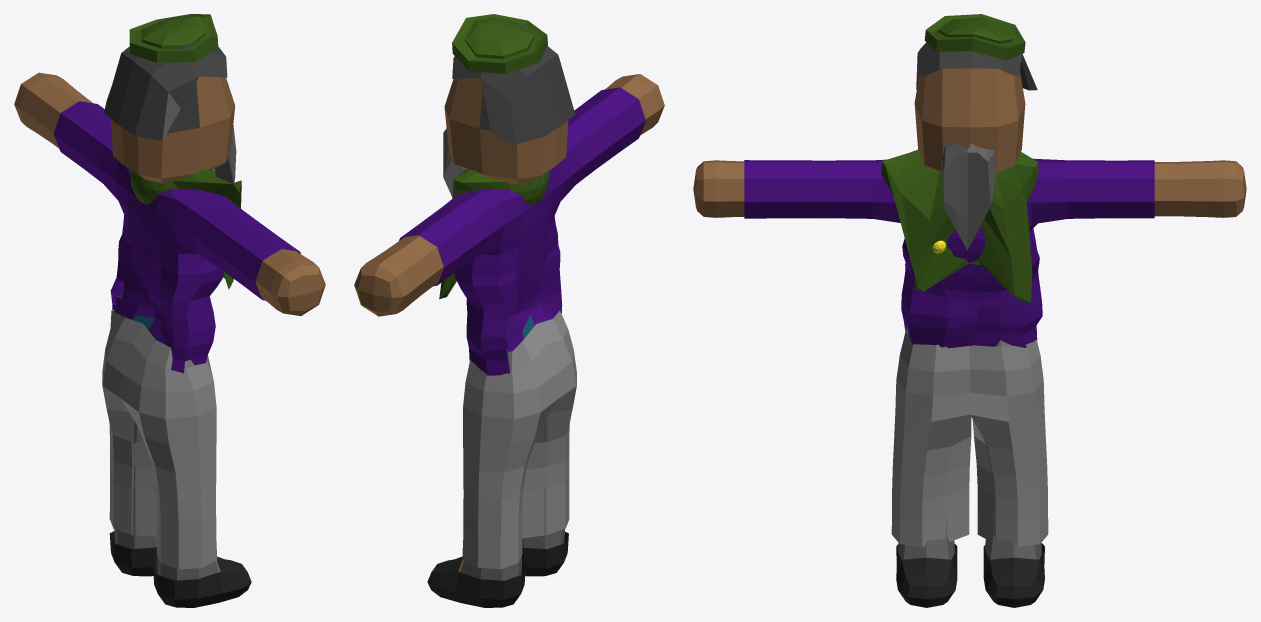
Rendered from unriggedCount.fbx.
3 renders of one model, left to right at view 1: azimuth 30°, elevation 25°; view 2: azimuth 150°, elevation 25°; view 3: azimuth 270°, elevation 25°, orthographic.
Visible parts, largest first — view 1: Count; view 2: Count; view 3: Count.
Part boxes in pixels (x1=…): Count: x1=14, y1=14, x2=325, y2=607; Count: x1=354, y1=14, x2=664, y2=607; Count: x1=693, y1=14, x2=1246, y2=607.
Bounding box in the file's own units: 31.16 × 152 × 133.
Materials: 1 (1 with a texture image).
